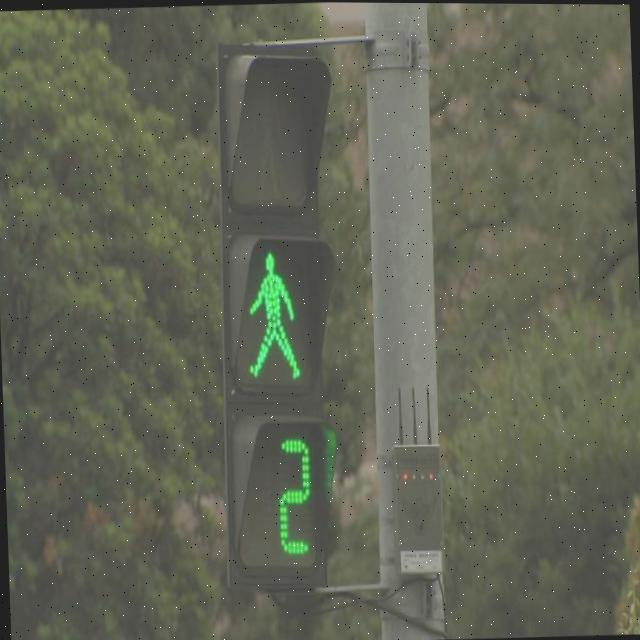green_light: (244, 245, 334, 571)
